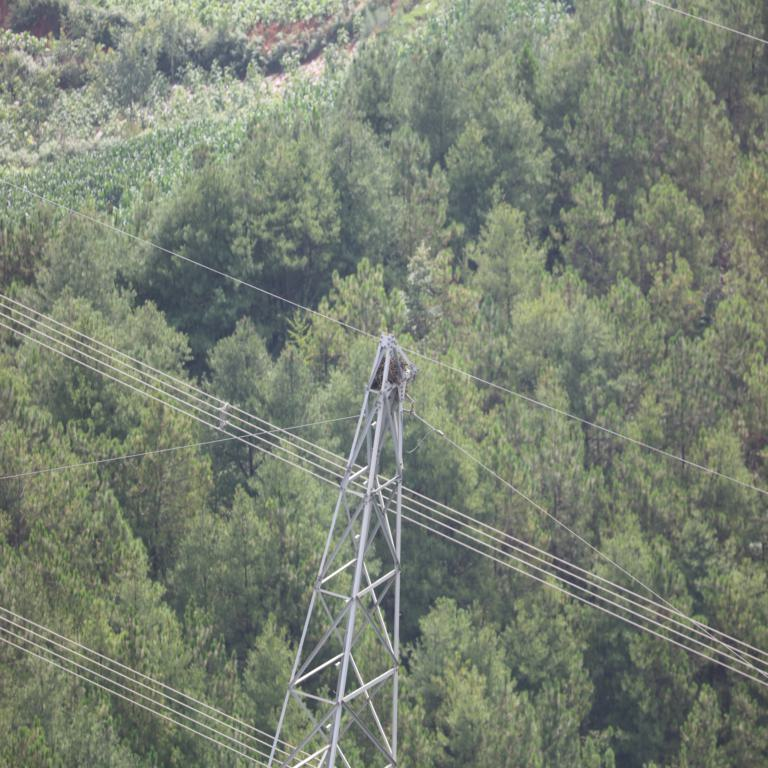nest: (373, 358, 406, 383)
